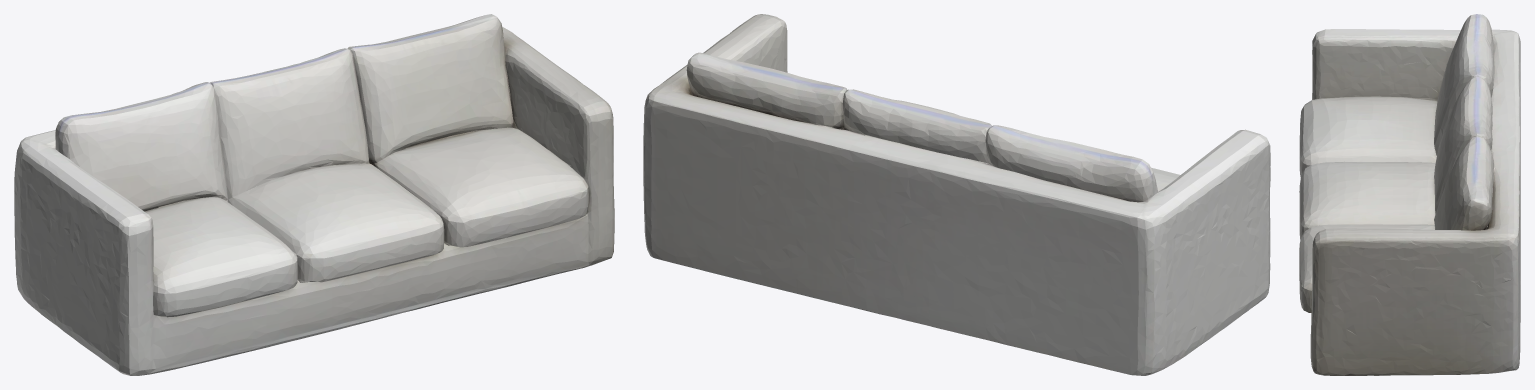
The model's file is ast_9f12a8edc4d5.glb.
3 views of the same model, side by side, from view 1: azimuth 30°, elevation 25°; view 2: azimuth 150°, elevation 25°; view 3: azimuth 270°, elevation 25° (orthographic). The views are drawn at different scales.
Parts seen in each view (by area): view 1: geometry_0; view 2: geometry_0; view 3: geometry_0.
Part boxes in pixels (box(x1,y1,x2,y2)): geometry_0: box(14, 14, 614, 375); geometry_0: box(643, 14, 1270, 375); geometry_0: box(1299, 14, 1520, 375).
Size of the model in its own units: 0.9957 by 0.3646 by 0.4351.
Materials: 1 (1 with a texture image).
